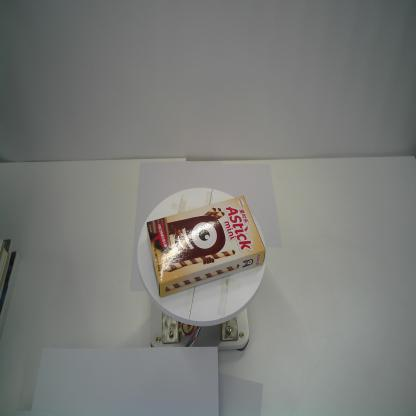Dessert: (145, 193, 268, 300)
